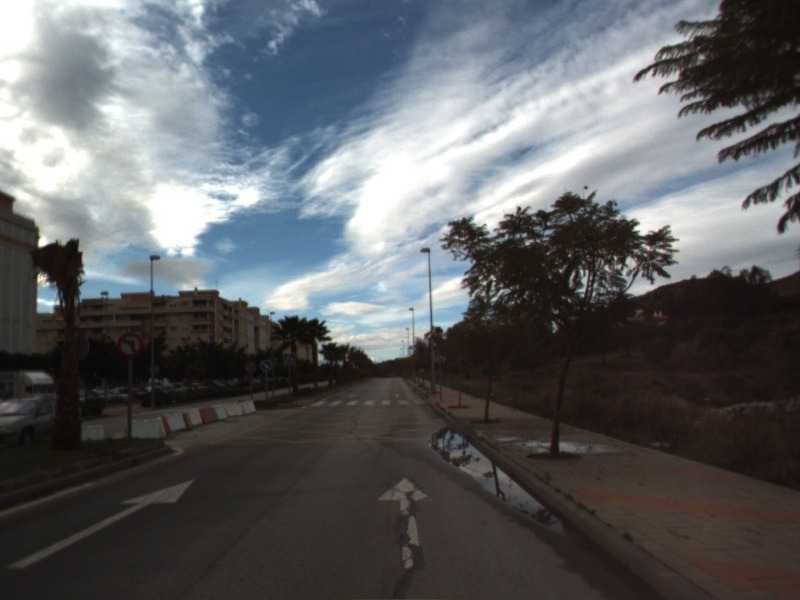STRAIGHT: (11, 479, 194, 568), (375, 475, 436, 572)
